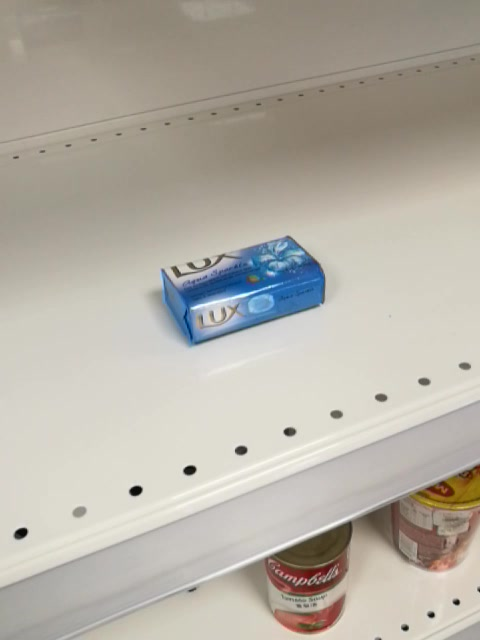soap: (160, 235, 327, 347)
